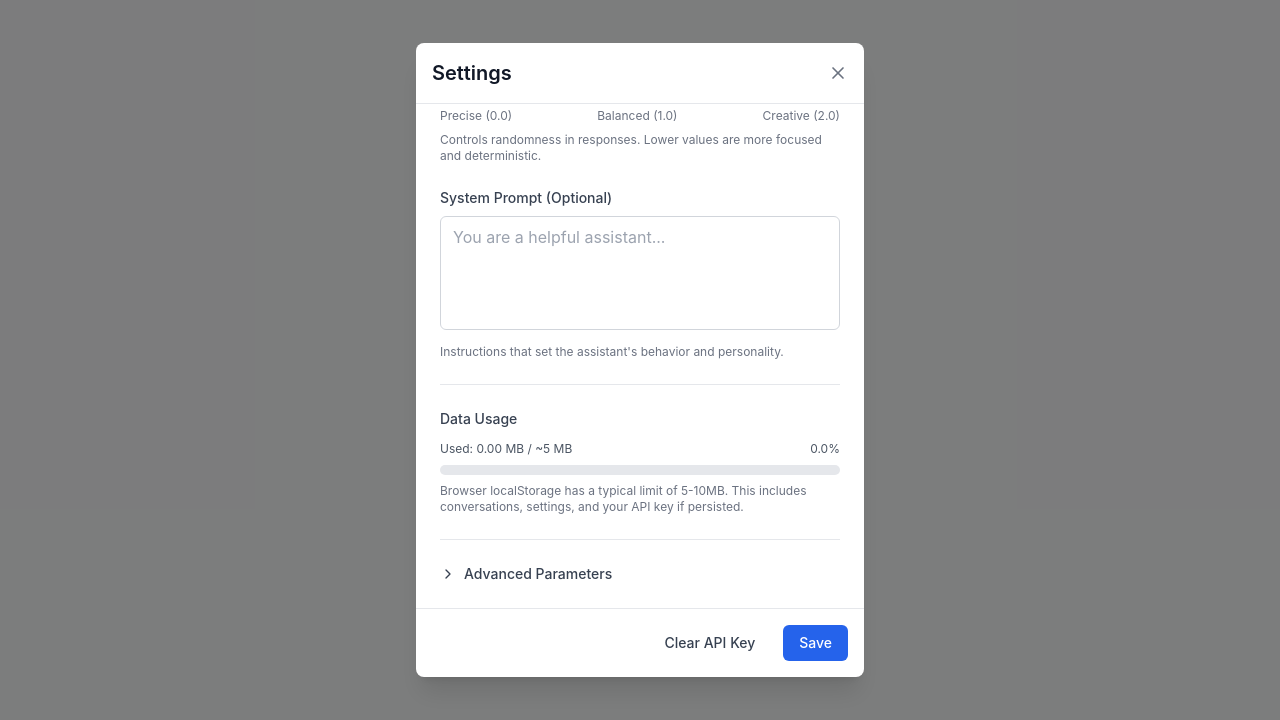
Test case: SettingsModal Component (AT-009) › Form Validation and Persistence (AT-009) › should show advanced parameters when toggled
This screenshot has width=1280, height=720.
(page scrolled)
Expected: the field labelled "Top P" is not shown
Click the button "Advanced Parameters" at [538, 574], box [440,564,840,584]
(page scrolled)
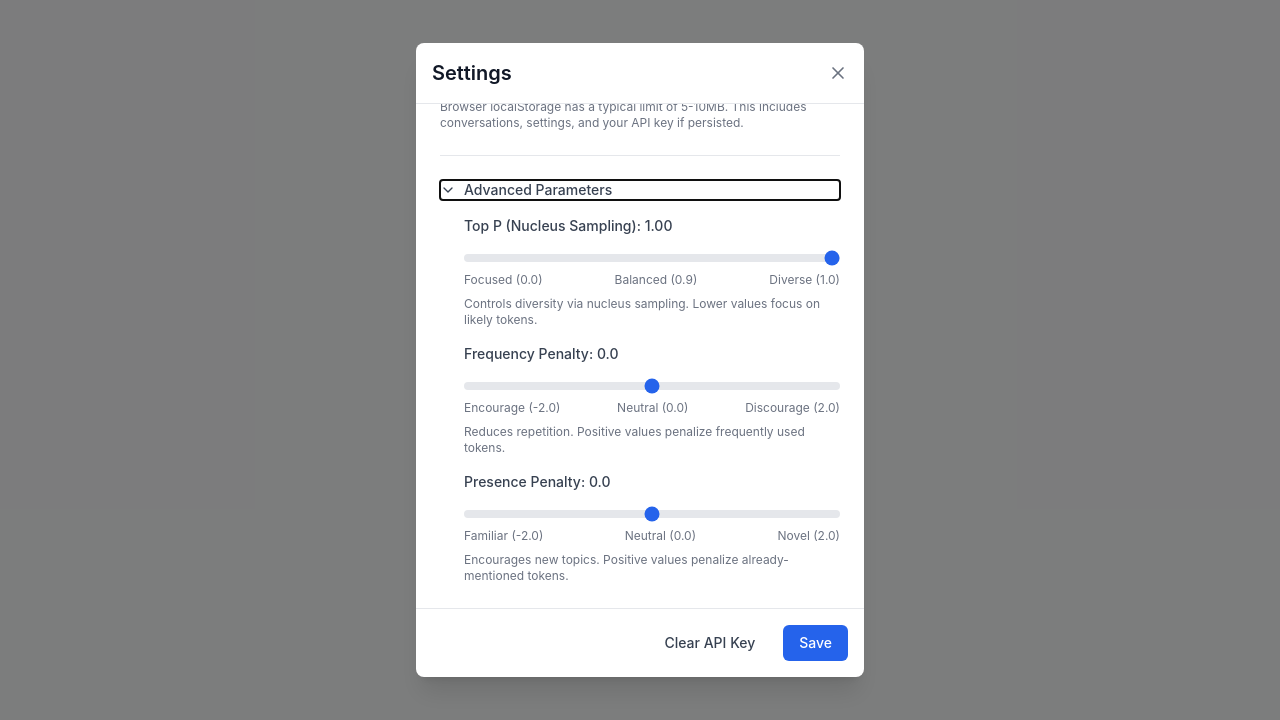
Result: the slider labelled "Top P (Nucleus Sampling): 1.00" is shown at [464,254,840,262]
Result: the slider labelled "Frequency Penalty: 0.0" is shown at [464,382,840,390]
Result: the slider labelled "Presence Penalty: 0.0" is shown at [464,510,840,518]
